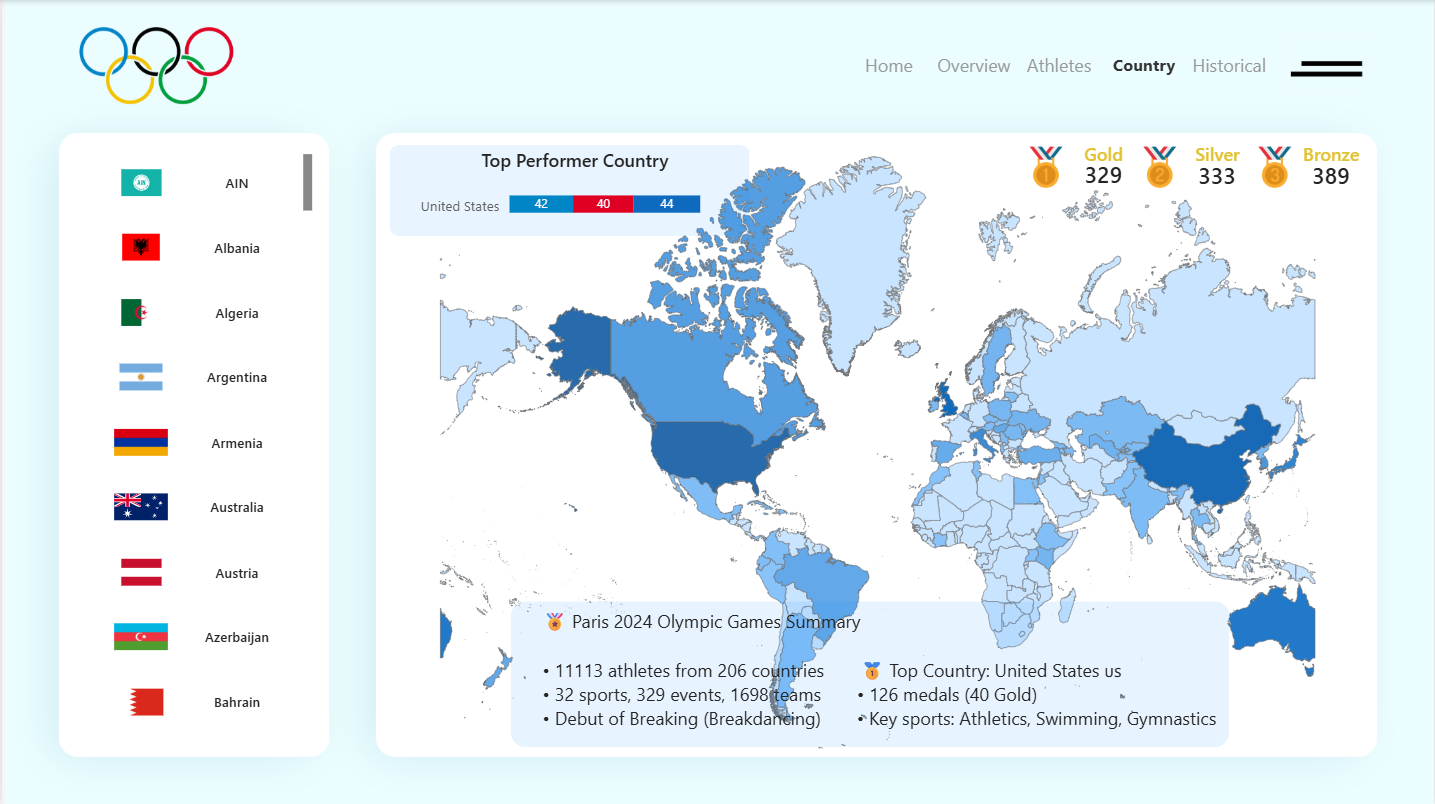

What the dashboard file says about the page in this screenshot:
{"tool":"powerbi","page":{"name":"Country","canvas":[1280,720],"ordinal":3},"visuals":[{"type":"shapeMap","title":"Country Overview ","fields":{"Value":["Medals.Total Country Medals"],"Category":["Medals.country_code"]},"box":[333.8,117.4,897.1,558.1],"z":0},{"type":"card","title":"Gold","fields":{"Values":["Medals.Total Gold Medals Country"]},"box":[953.3,126.7,61.1,46.7],"z":0,"group":"g3"},{"type":"card","title":"Bronze","fields":{"Values":["Medals.Total Bronze Medals Country"]},"box":[1157.2,126.3,61.1,47.4],"z":1000,"group":"g3"},{"type":"shape","box":[346,129.5,321.7,81.3],"z":1000,"group":"g1"},{"type":"advancedSlicerVisual","fields":{"Values":["Medals.country"]},"box":[66,133.3,216.1,530.7],"z":1000},{"type":"shape","box":[454.3,537.5,641.9,130.3],"z":1000,"group":"g2"},{"type":"barChart","title":"Top Performer Country","fields":{"Category":["Medals.country"],"Y":["Medals.Total Country Medals"],"Series":["Medals.medal_type"]},"box":[367.5,132.2,288.8,75.9],"z":1500,"group":"g1"},{"type":"card","title":"Silver","fields":{"Values":["Medals.Total Silver Medals Country"]},"box":[1055.2,126.4,61.1,47.3],"z":2000,"group":"g3"},{"type":"group","id":"g1","title":"Group 1","box":[346,129.5,321.8,81.7],"z":2000},{"type":"textbox","box":[477.6,544.6,619.7,111.6],"z":2003,"group":"g2"},{"type":"image","box":[57.1,0,163,116],"z":3000},{"type":"image","box":[907.8,126.7,50.1,46.7],"z":3000,"group":"g3"},{"type":"image","box":[1009.8,126.7,50.1,46.7],"z":4000,"group":"g3"},{"type":"group","id":"g2","title":"Group 2","box":[454.3,537.5,643,130.3],"z":4000},{"type":"pageNavigator","box":[759,32,370,50.6],"z":5000},{"type":"image","box":[1111.7,126.7,50.1,46.7],"z":5000,"group":"g3"},{"type":"actionButton","box":[1149.2,29.3,68.5,56.2],"z":6000},{"type":"group","id":"g3","title":"Group 1","box":[907.8,126.3,310.5,47.4],"z":6500}]}

Visuals, with their boxes in screenshot pixels (x1, y1, x2, y2), scaled from the page's 1280x720 canvas onto the 1435x804 screenshot:
"Country Overview " shapeMap: <bbox>374, 131, 1380, 754</bbox>
"Gold" card: <bbox>1069, 141, 1137, 194</bbox>
"Bronze" card: <bbox>1297, 141, 1366, 194</bbox>
shape: <bbox>388, 145, 749, 235</bbox>
advancedSlicerVisual - Medals.country: <bbox>74, 149, 316, 741</bbox>
shape: <bbox>509, 600, 1229, 746</bbox>
"Top Performer Country" barChart: <bbox>412, 148, 736, 232</bbox>
"Silver" card: <bbox>1183, 141, 1251, 194</bbox>
"Group 1" group: <bbox>388, 145, 749, 236</bbox>
textbox: <bbox>535, 608, 1230, 733</bbox>
image: <bbox>64, 0, 247, 130</bbox>
image: <bbox>1018, 141, 1074, 194</bbox>
image: <bbox>1132, 141, 1188, 194</bbox>
"Group 2" group: <bbox>509, 600, 1230, 746</bbox>
pageNavigator: <bbox>851, 36, 1266, 92</bbox>
image: <bbox>1246, 141, 1302, 194</bbox>
actionButton: <bbox>1288, 33, 1365, 95</bbox>
"Group 1" group: <bbox>1018, 141, 1366, 194</bbox>
